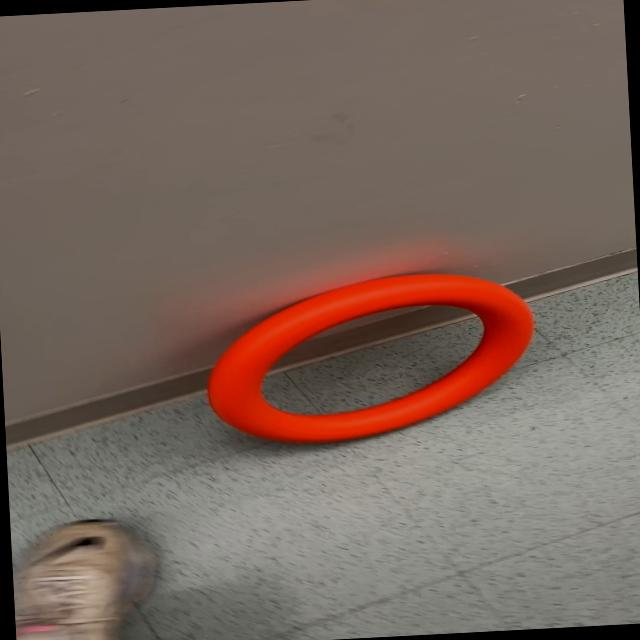note: (198, 266, 542, 450)
